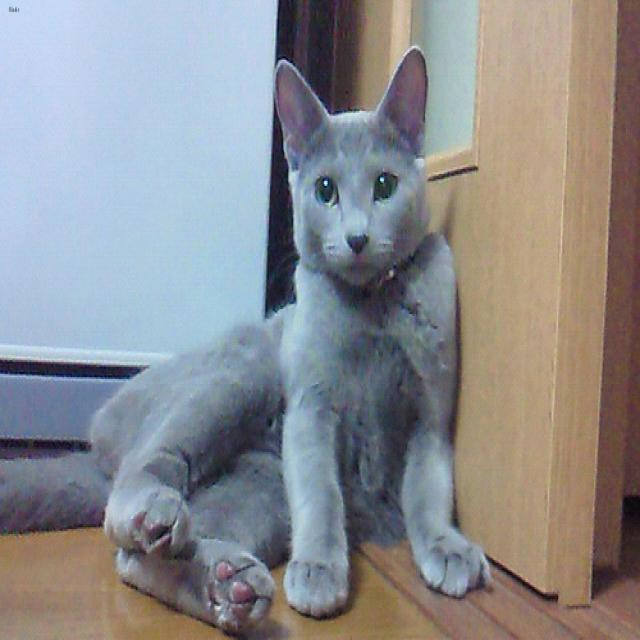Russian_Blue: (273, 43, 426, 283)
